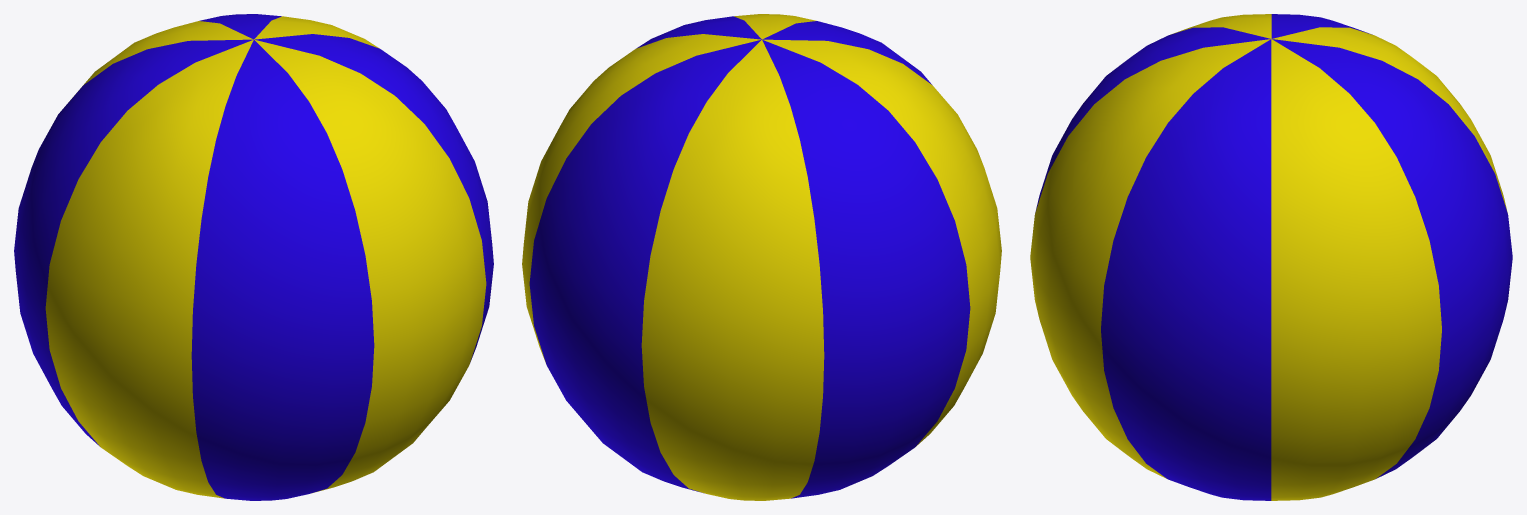
The model's file is beachball.fbx.
The picture shows the model from 3 angles, left to right: view 1: azimuth 30°, elevation 25°; view 2: azimuth 150°, elevation 25°; view 3: azimuth 270°, elevation 25°; orthographic projection.
Parts seen in each view (by area): view 1: Sphere; view 2: Sphere; view 3: Sphere.
Boxes of the visible parts, x1,y1,x2,y2 form: Sphere: (14, 14, 493, 500); Sphere: (522, 14, 1001, 500); Sphere: (1030, 14, 1512, 500).
Size of the model in its own units: 179 by 179 by 179.
